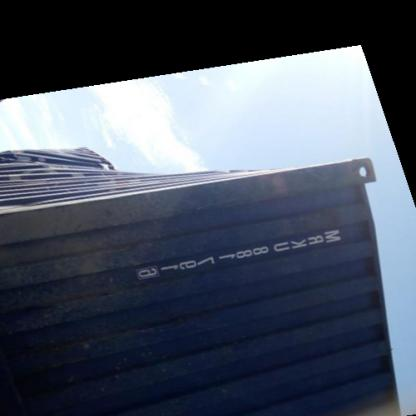Damage: (0, 138, 106, 188)
